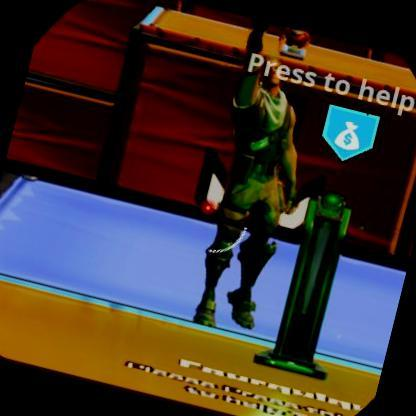person: (173, 63, 313, 324)
